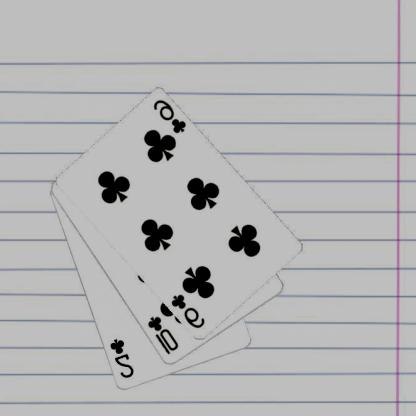10C: (146, 314, 182, 356)
2C: (109, 336, 137, 380)
6C: (170, 292, 208, 330), (152, 98, 189, 135)
